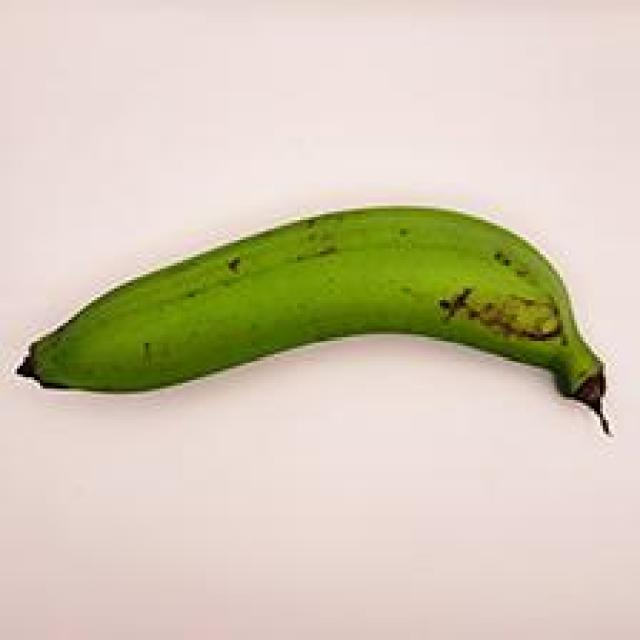Raw: (7, 188, 629, 446)
